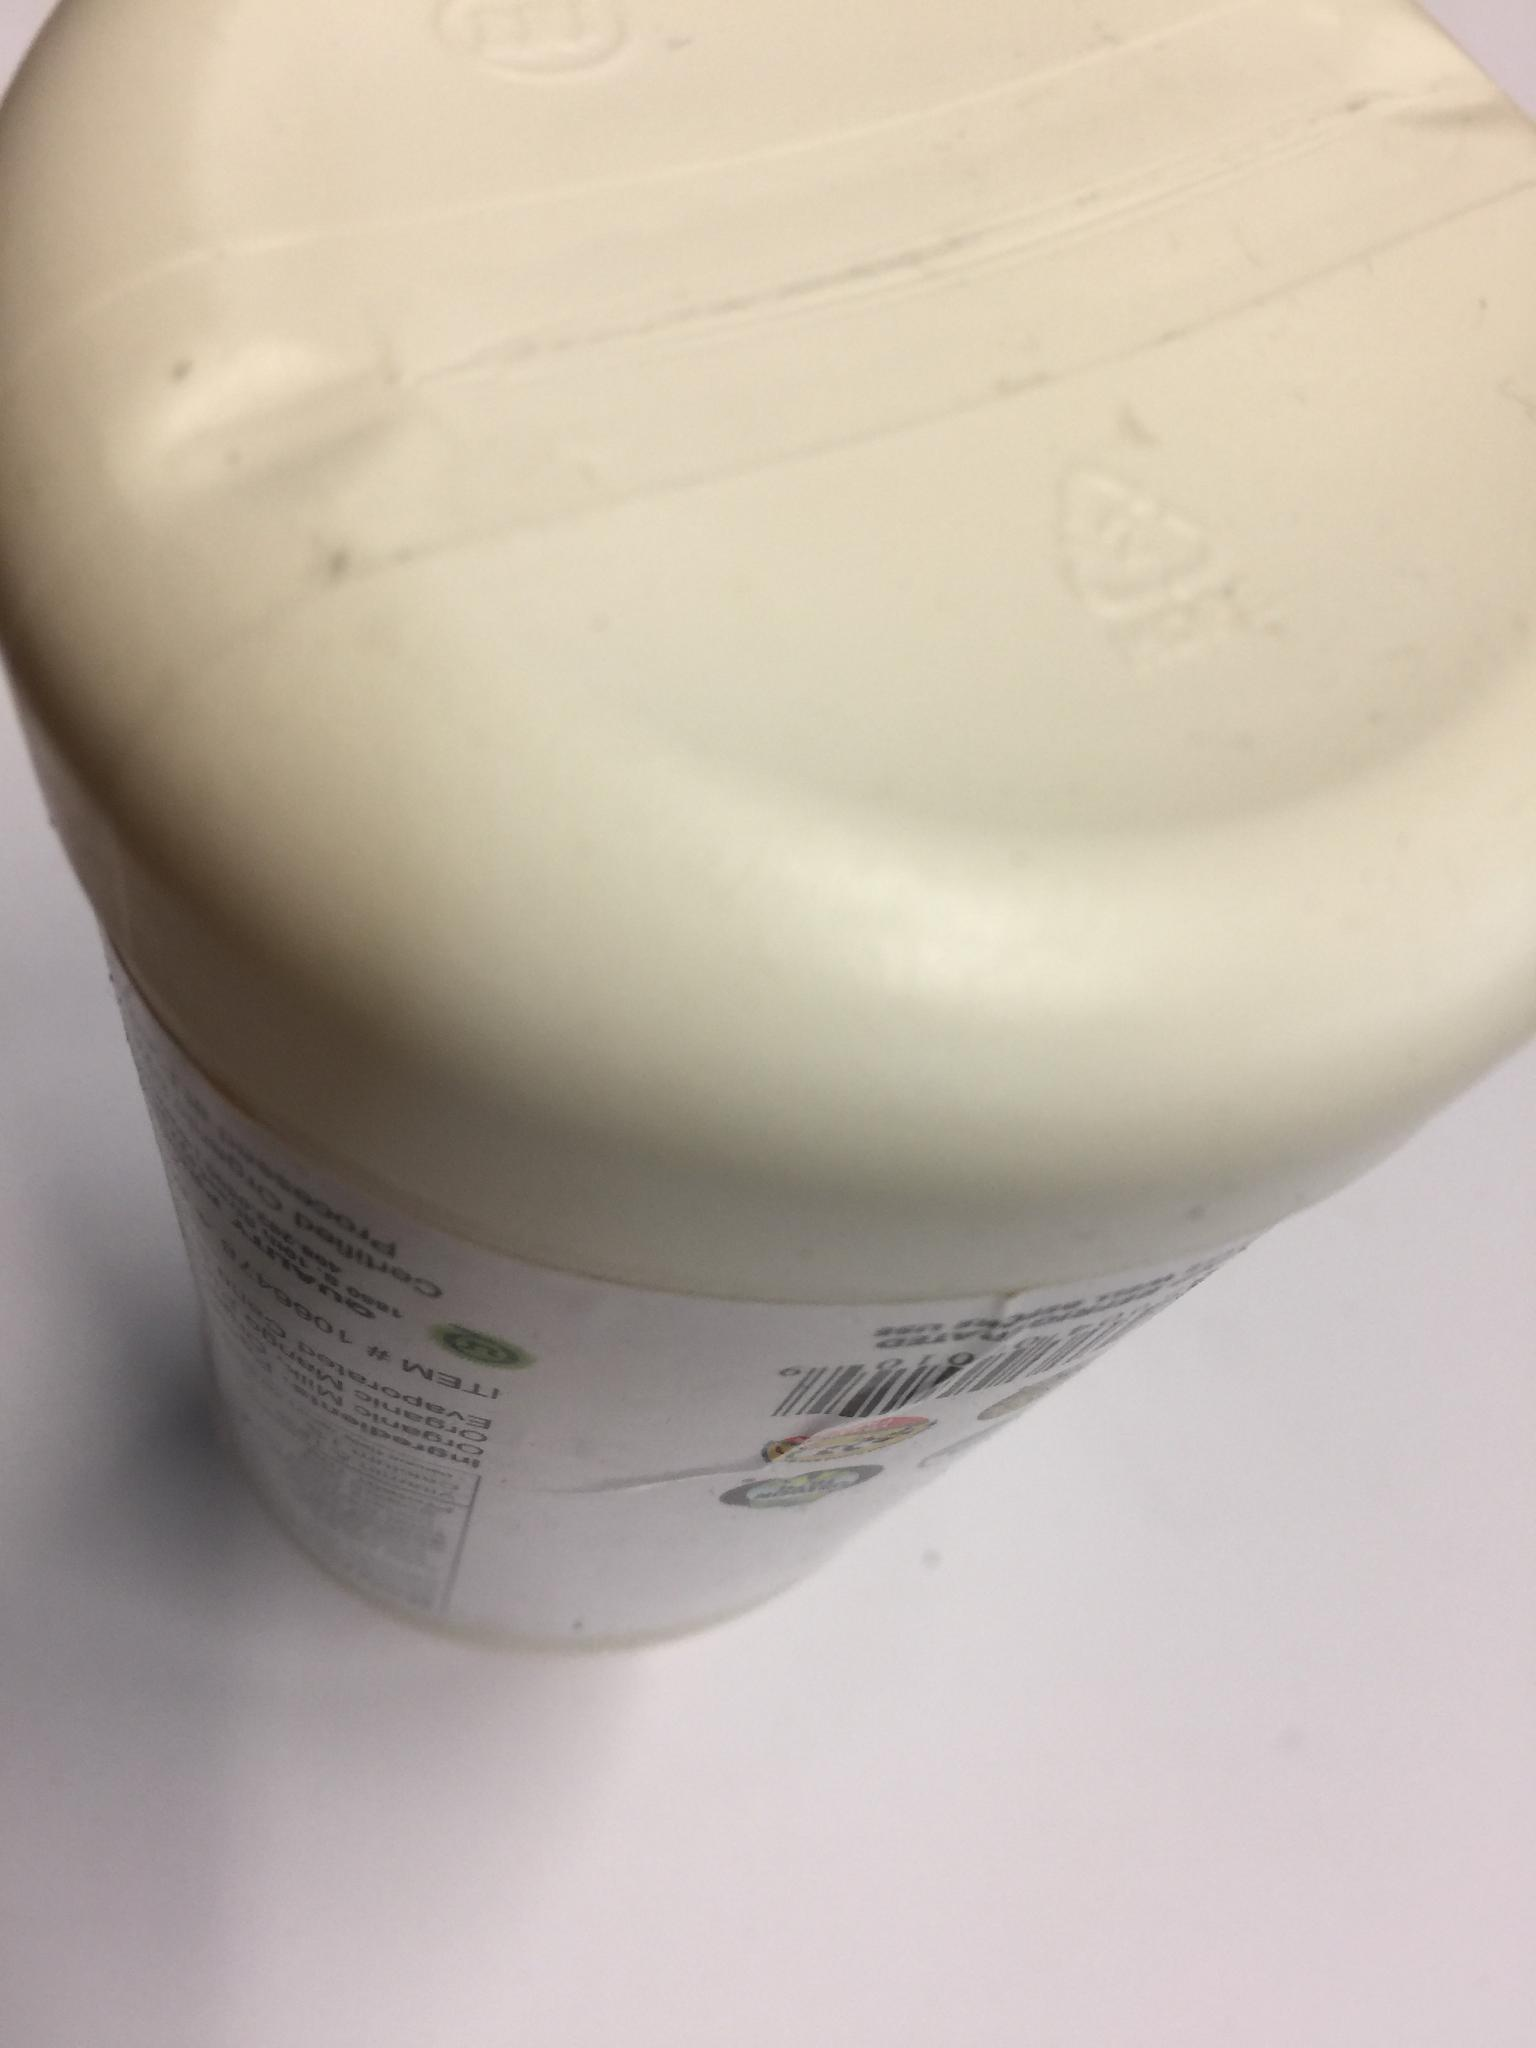Plastic: (8, 0, 1534, 1675)
